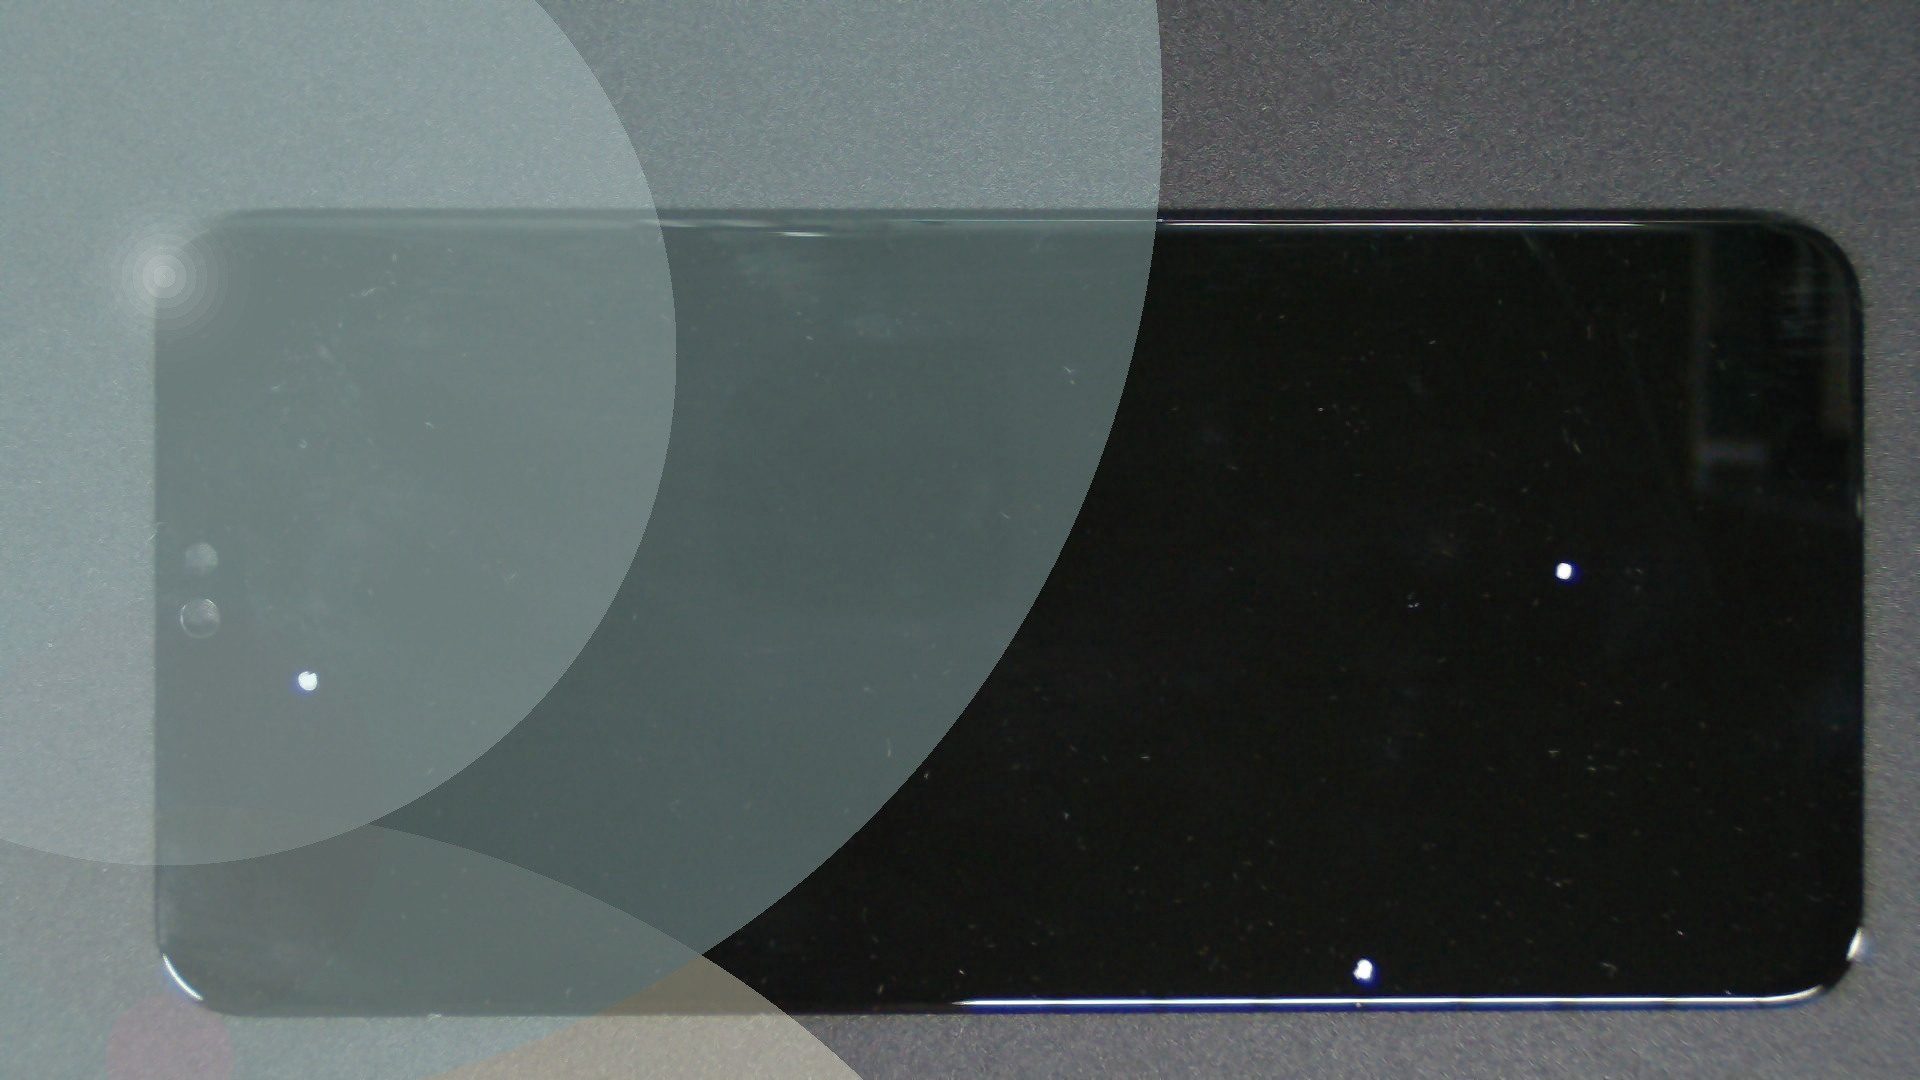oil: (682, 476, 1920, 1080), (782, 280, 1920, 843), (154, 334, 462, 1004)
